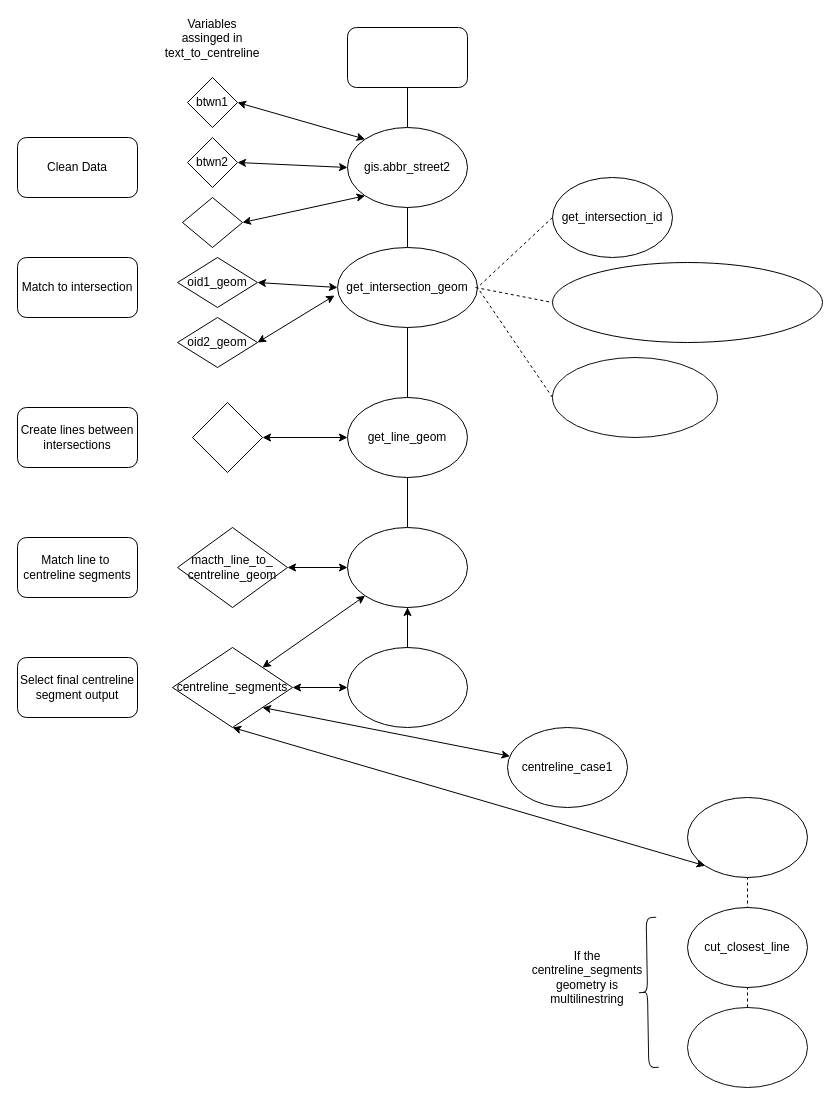
This 840x1105 diagram has some shape labels left out. The centre of each missing label's shape, as x and y in pixels:
"centreline_case2" goes at point (747, 837).
"get_closest_line" goes at point (747, 1047).
"get_entire_length_ centreline_segments" goes at point (407, 687).
"get_intersection_id_highway_equals_btwn" goes at point (687, 302).
"highway2" goes at point (212, 222).
"line_geom" goes at point (227, 437).
"match_line_centreline" goes at point (407, 567).
"text_to_centreline" goes at point (407, 57).
"translate_intersection_point" goes at point (635, 397).
